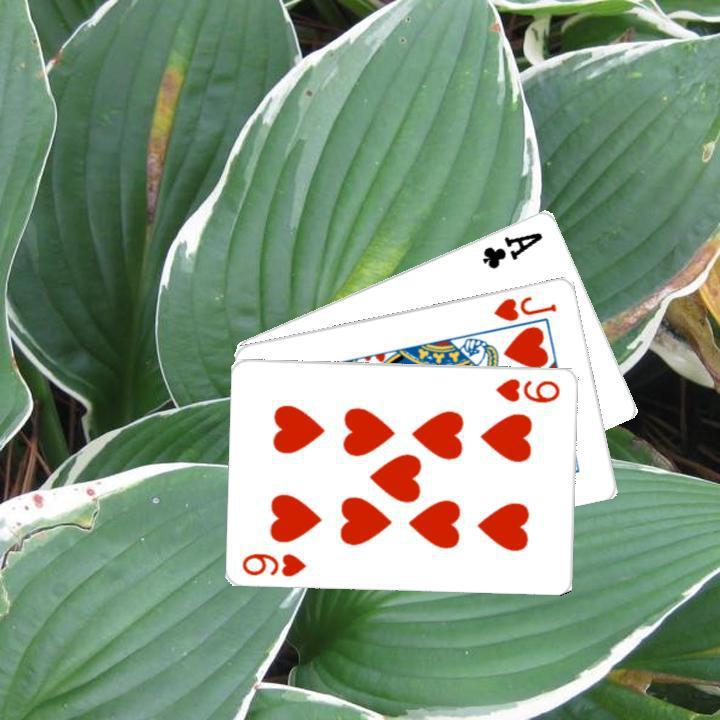9: (492, 373, 563, 404), (239, 548, 309, 579)
A: (478, 227, 545, 271)
J: (490, 291, 559, 323)
